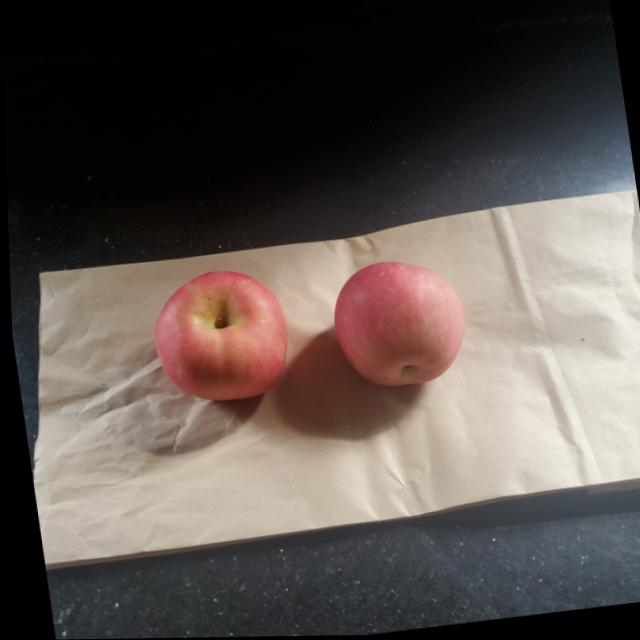apple: (142, 259, 294, 406), (325, 259, 474, 399)
